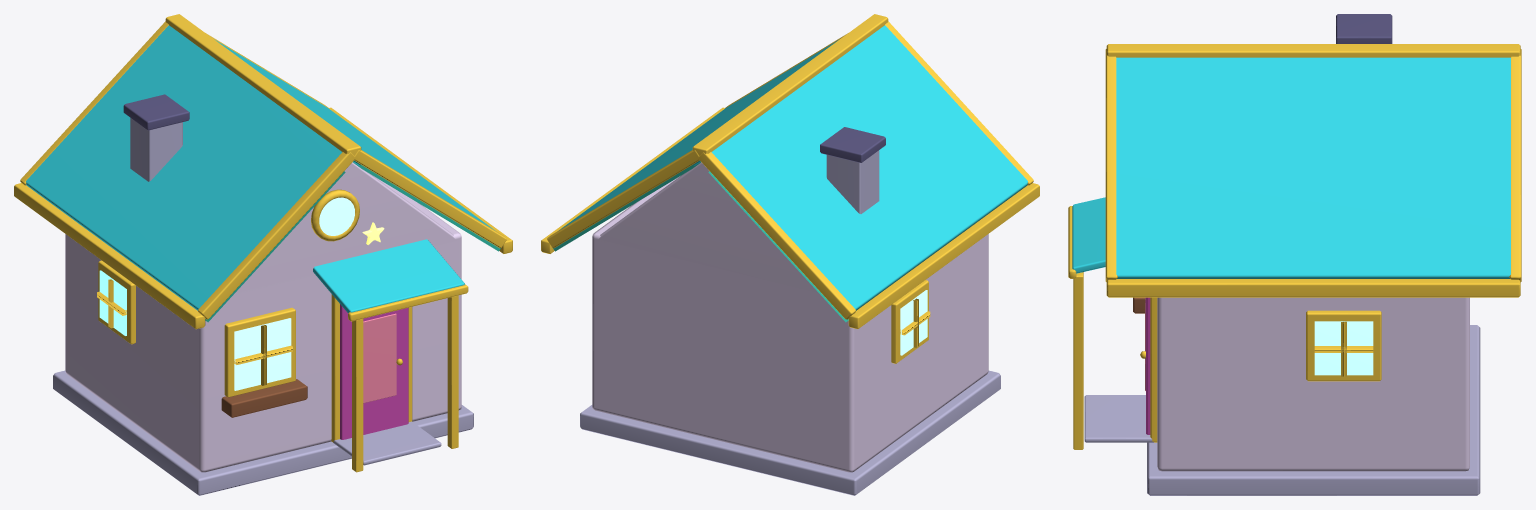
The model's file is house_a.glb.
The picture shows the model from 3 angles, left to right: view 1: azimuth 30°, elevation 25°; view 2: azimuth 150°, elevation 25°; view 3: azimuth 270°, elevation 25°; orthographic projection. The views are drawn at different scales.
Visible parts, largest first — view 1: House; view 2: House; view 3: House.
Part boxes in pixels (left/top/right/bottom): House: left=14, top=14, right=512, bottom=495; House: left=541, top=14, right=1039, bottom=495; House: left=1068, top=14, right=1521, bottom=495.
Bounding box in the file's own units: 4.14 × 4.08 × 4.49.
